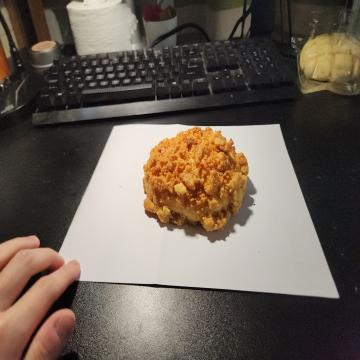soboru_bread: (141, 127, 250, 239)
